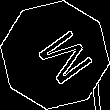M_SW: (21, 22, 89, 88)
